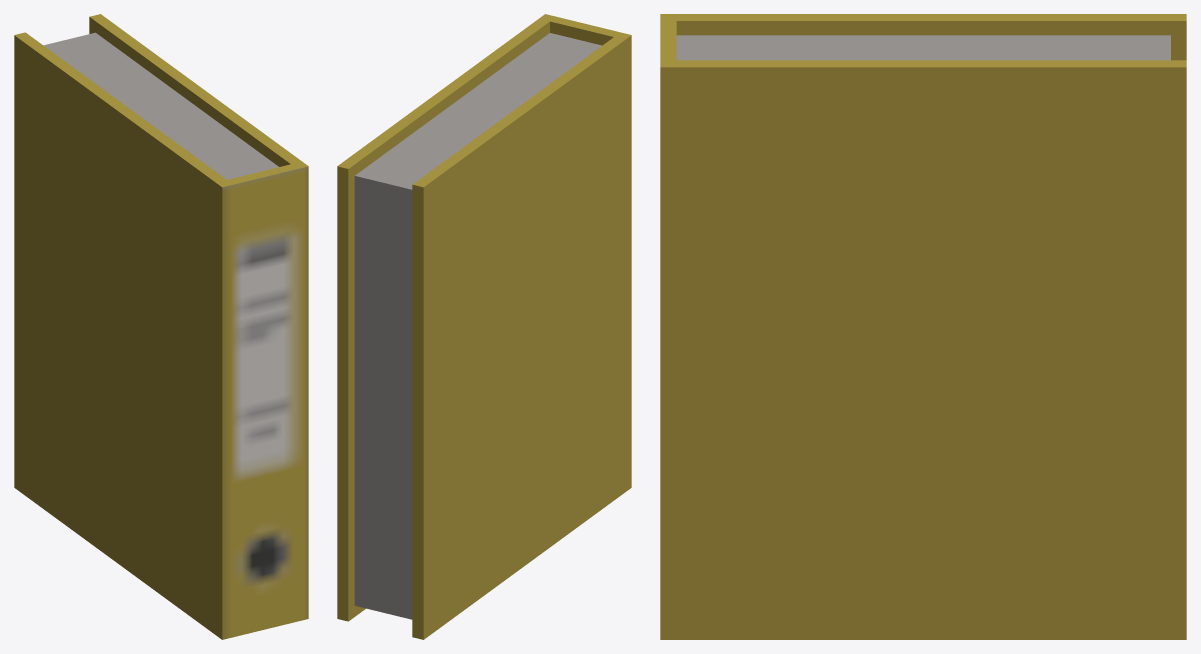
File: SM_Props_Interior_Generic_Office_File_Large_03.fbx
The picture shows the model from 3 angles, left to right: view 1: azimuth 30°, elevation 25°; view 2: azimuth 150°, elevation 25°; view 3: azimuth 270°, elevation 25°; orthographic projection. The views are drawn at different scales.
Parts seen in each view (by area): view 1: SM_Props_Interior_Generic_Office_File_Large_03; view 2: SM_Props_Interior_Generic_Office_File_Large_03; view 3: SM_Props_Interior_Generic_Office_File_Large_03.
Part boxes in pixels (box(x1,y1,x2,y2)): SM_Props_Interior_Generic_Office_File_Large_03: box(14, 14, 308, 639); SM_Props_Interior_Generic_Office_File_Large_03: box(337, 14, 631, 639); SM_Props_Interior_Generic_Office_File_Large_03: box(660, 14, 1186, 639).
Bounding box in the file's own units: 12 × 60 × 50.
